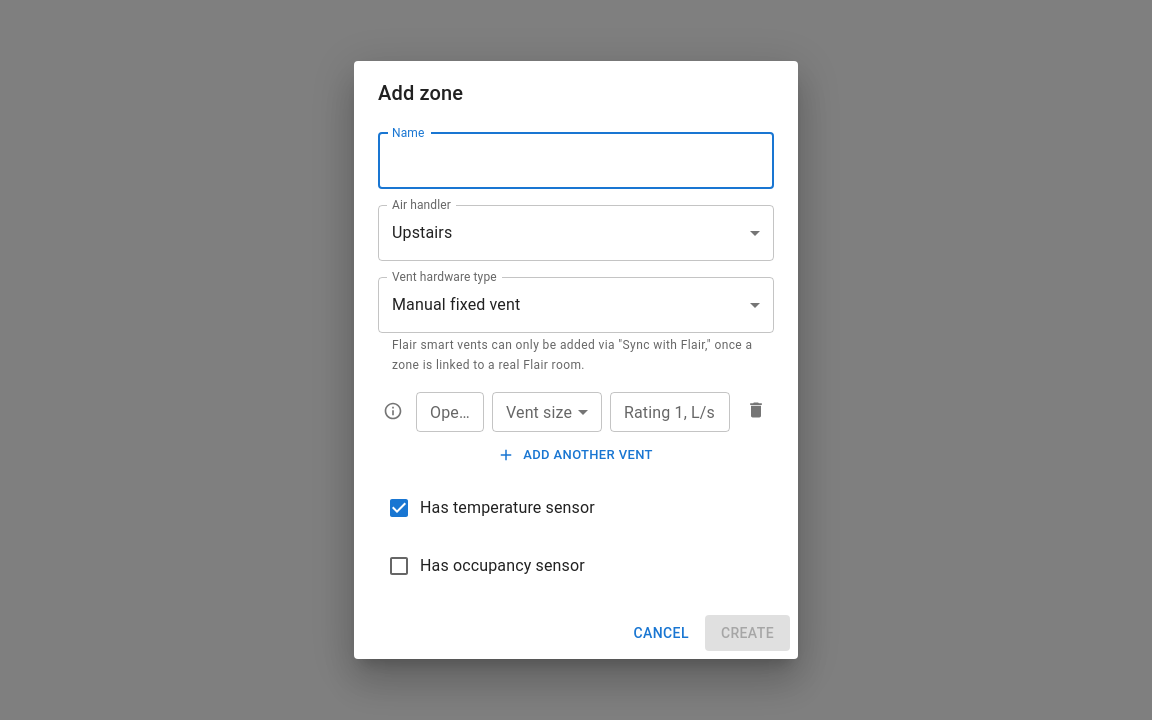
Test: AddZoneDialog › does not show a manual-vent position field for a no_vent zone
Step 1. Click the dropdown named "Vent hardware type" → (456,305), box [392,296,520,314]
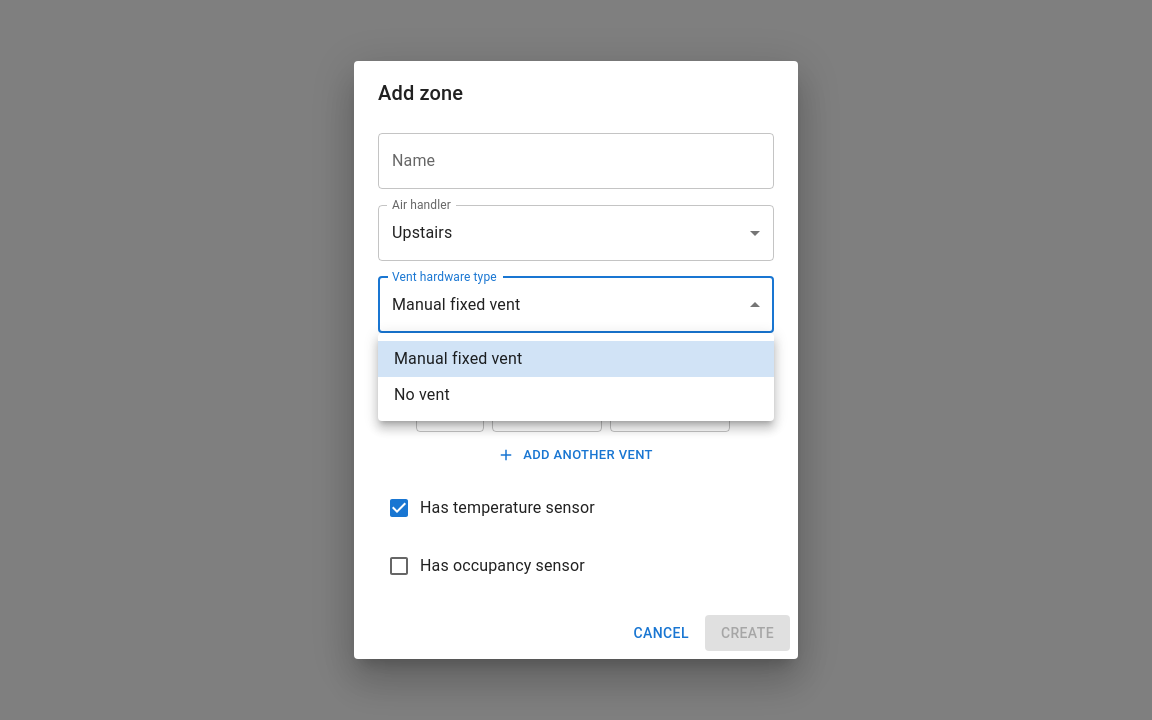
Step 2. Click the option "No vent" → (422,394), box [394,385,450,404]
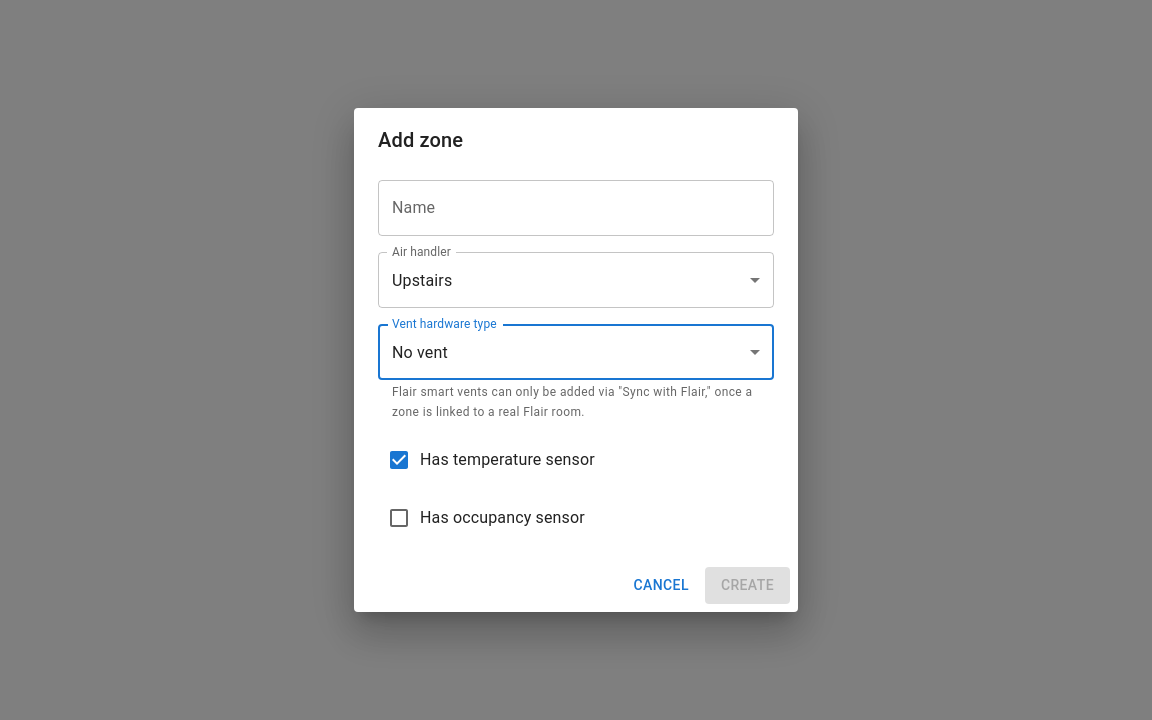
Check: the label labelled "Open Position 1" is gone
